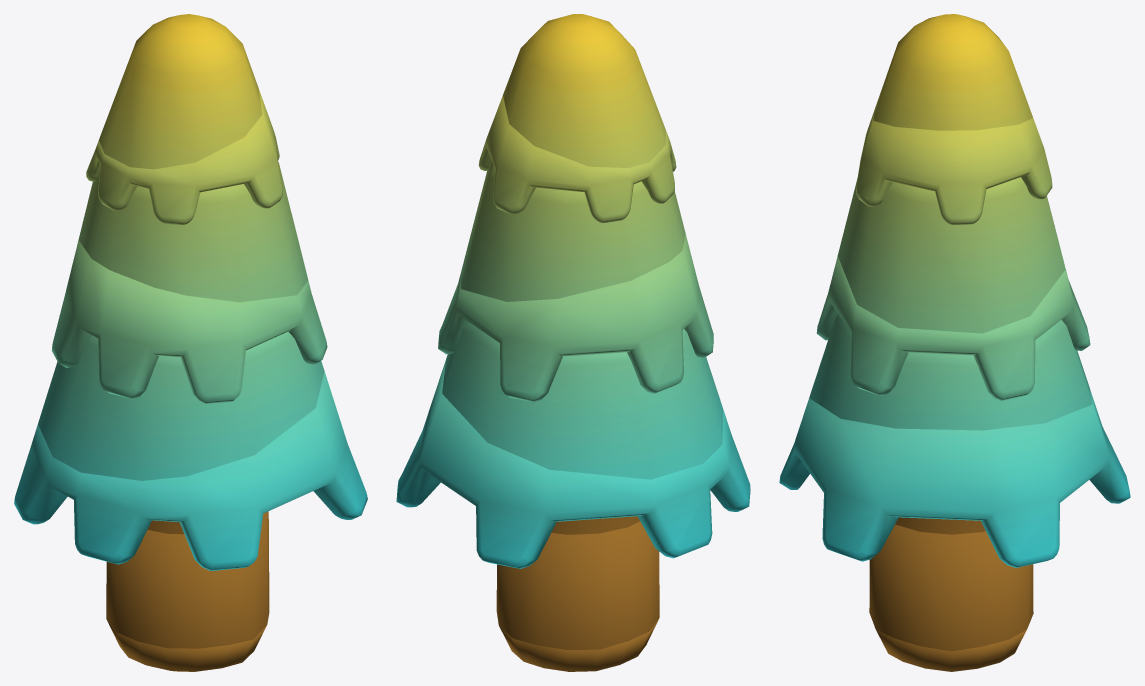
The model's file is Tree_3.fbx.
3 renders of one model, left to right at view 1: azimuth 30°, elevation 25°; view 2: azimuth 150°, elevation 25°; view 3: azimuth 270°, elevation 25°, orthographic.
Visible parts, largest first — view 1: Trtee_Cuts4, Trtee_Cuts3, Trtee_Cuts5, Trtee_Cuts2, Trtee_Cuts6, Trtee_Cuts1; view 2: Trtee_Cuts4, Trtee_Cuts3, Trtee_Cuts5, Trtee_Cuts2, Trtee_Cuts6, Trtee_Cuts1; view 3: Trtee_Cuts3, Trtee_Cuts5, Trtee_Cuts4, Trtee_Cuts6, Trtee_Cuts2, Trtee_Cuts1.
Boxes of the visible parts, <box> form: Trtee_Cuts4: <box>38,240,327,480</box>; Trtee_Cuts3: <box>78,89,308,302</box>; Trtee_Cuts5: <box>14,372,367,570</box>; Trtee_Cuts2: <box>99,14,262,169</box>; Trtee_Cuts6: <box>106,511,269,648</box>; Trtee_Cuts1: <box>107,620,266,671</box>; Trtee_Cuts4: <box>438,233,722,479</box>; Trtee_Cuts3: <box>461,95,685,301</box>; Trtee_Cuts5: <box>396,359,750,568</box>; Trtee_Cuts2: <box>503,14,666,167</box>; Trtee_Cuts6: <box>496,521,659,649</box>; Trtee_Cuts1: <box>499,619,658,671</box>; Trtee_Cuts3: <box>837,111,1065,333</box>; Trtee_Cuts5: <box>779,389,1130,567</box>; Trtee_Cuts4: <box>809,247,1092,430</box>; Trtee_Cuts6: <box>869,524,1033,651</box>; Trtee_Cuts2: <box>873,14,1032,130</box>; Trtee_Cuts1: <box>876,629,1026,671</box>.
Size of the model in its own units: 5.38 by 11.02 by 5.58.
Materials: 3 (1 with a texture image).
